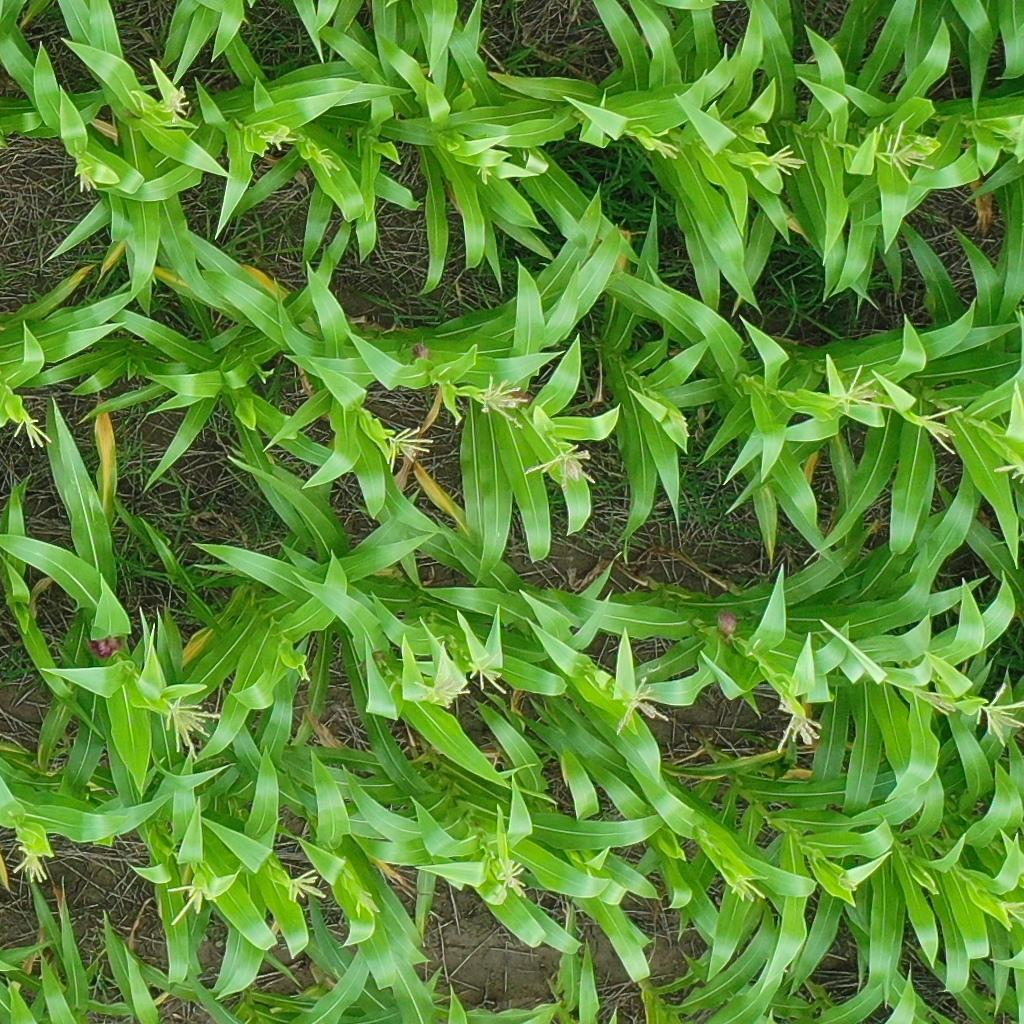Tassel: (823, 364, 901, 422), (611, 671, 675, 740), (166, 691, 224, 767), (876, 121, 938, 187), (526, 440, 598, 490), (976, 683, 1024, 749), (479, 367, 526, 432), (384, 423, 435, 476), (920, 400, 966, 456), (409, 669, 470, 709), (165, 884, 220, 928), (776, 705, 826, 753), (466, 649, 510, 696), (493, 856, 533, 903), (279, 864, 327, 903), (909, 680, 959, 717), (11, 844, 51, 886), (12, 415, 56, 449), (766, 143, 804, 179), (643, 128, 682, 161), (309, 141, 343, 177), (732, 871, 765, 905), (160, 86, 191, 122), (72, 160, 101, 197), (351, 888, 381, 922), (258, 125, 298, 150), (666, 405, 694, 440), (993, 458, 1024, 485), (1003, 892, 1024, 924)
